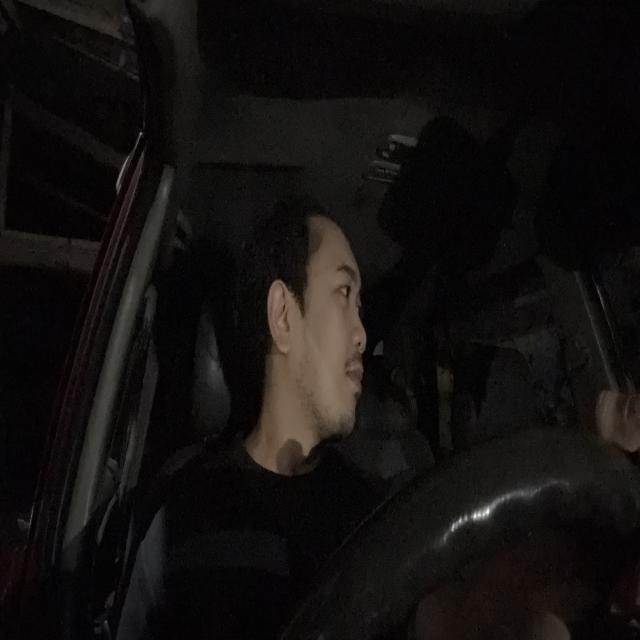open: (325, 260, 356, 316)
